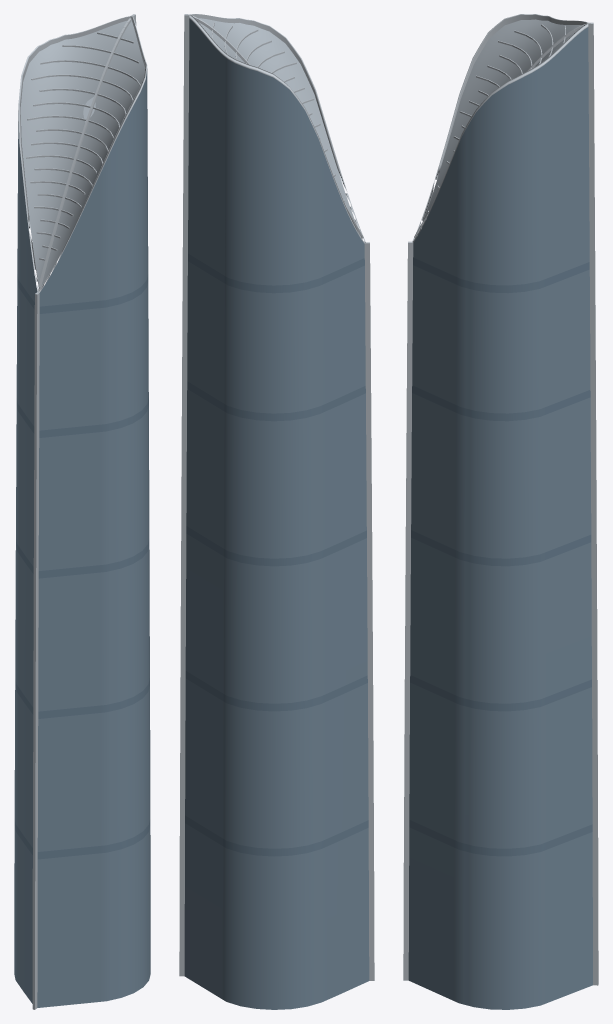
Rendered from suzhou-ifs.detail.glb.
3 renders of one model, left to right at view 1: azimuth 30°, elevation 25°; view 2: azimuth 150°, elevation 25°; view 3: azimuth 330°, elevation 25°, orthographic. The views are drawn at different scales.
Parts seen in each view (by area): view 1: Suzhou IFS; view 2: Suzhou IFS; view 3: Suzhou IFS.
Boxes of the visible parts, x1,y1,x2,y2 form: Suzhou IFS: [14, 14, 150, 1009]; Suzhou IFS: [179, 14, 374, 1009]; Suzhou IFS: [403, 14, 598, 1009].
Size of the model in its own units: 74.87 by 451 by 59.7.
